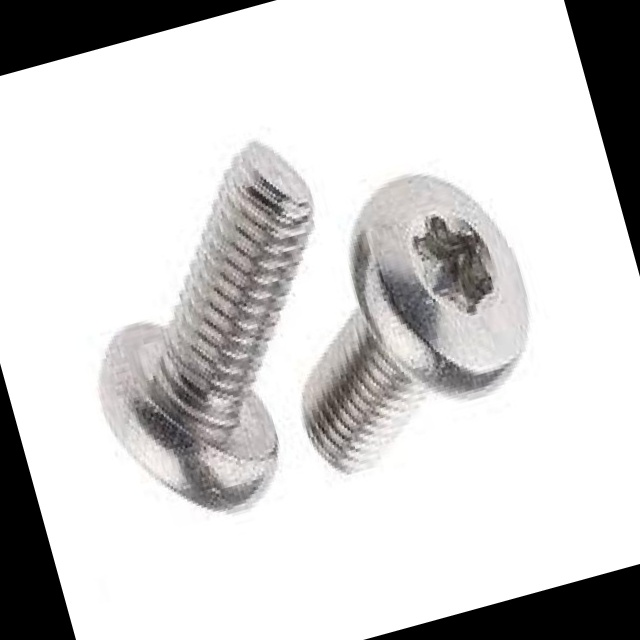torx: (328, 151, 553, 425)
